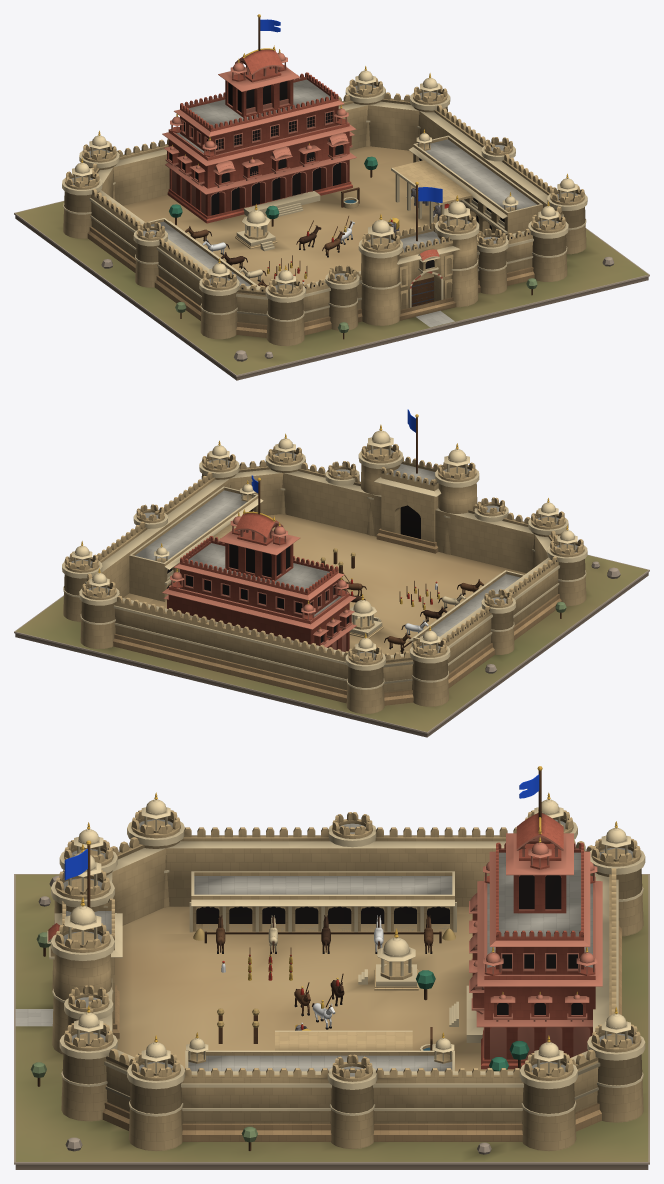
File: lm_racputkisla.glb
The picture shows the model from 3 angles, top to bottom: view 1: azimuth 30°, elevation 25°; view 2: azimuth 150°, elevation 25°; view 3: azimuth 270°, elevation 25°; orthographic projection. The views are drawn at different scales.
Visible parts, largest first — view 1: lm_racputkisla; view 2: lm_racputkisla; view 3: lm_racputkisla.
Boxes of the visible parts, x1,y1,x2,y2 form: lm_racputkisla: (14,14,649,380); lm_racputkisla: (14,409,649,737); lm_racputkisla: (14,766,649,1169).
Size of the model in its own units: 2.33 by 0.9791 by 2.17.
1 material, 1 textured.
